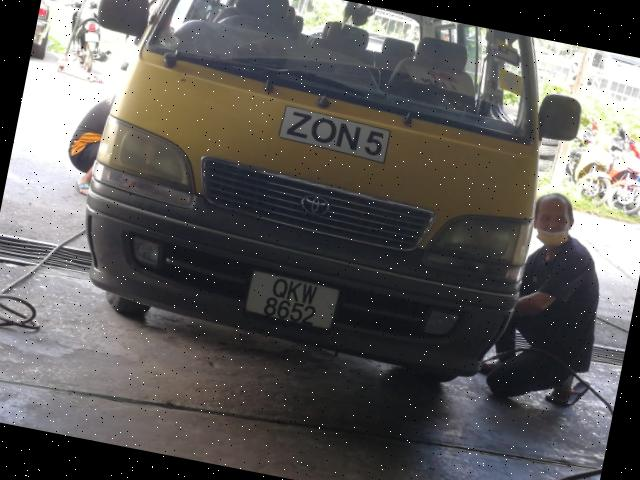License_Plate: (245, 270, 340, 331)
van: (28, 1, 599, 415)
